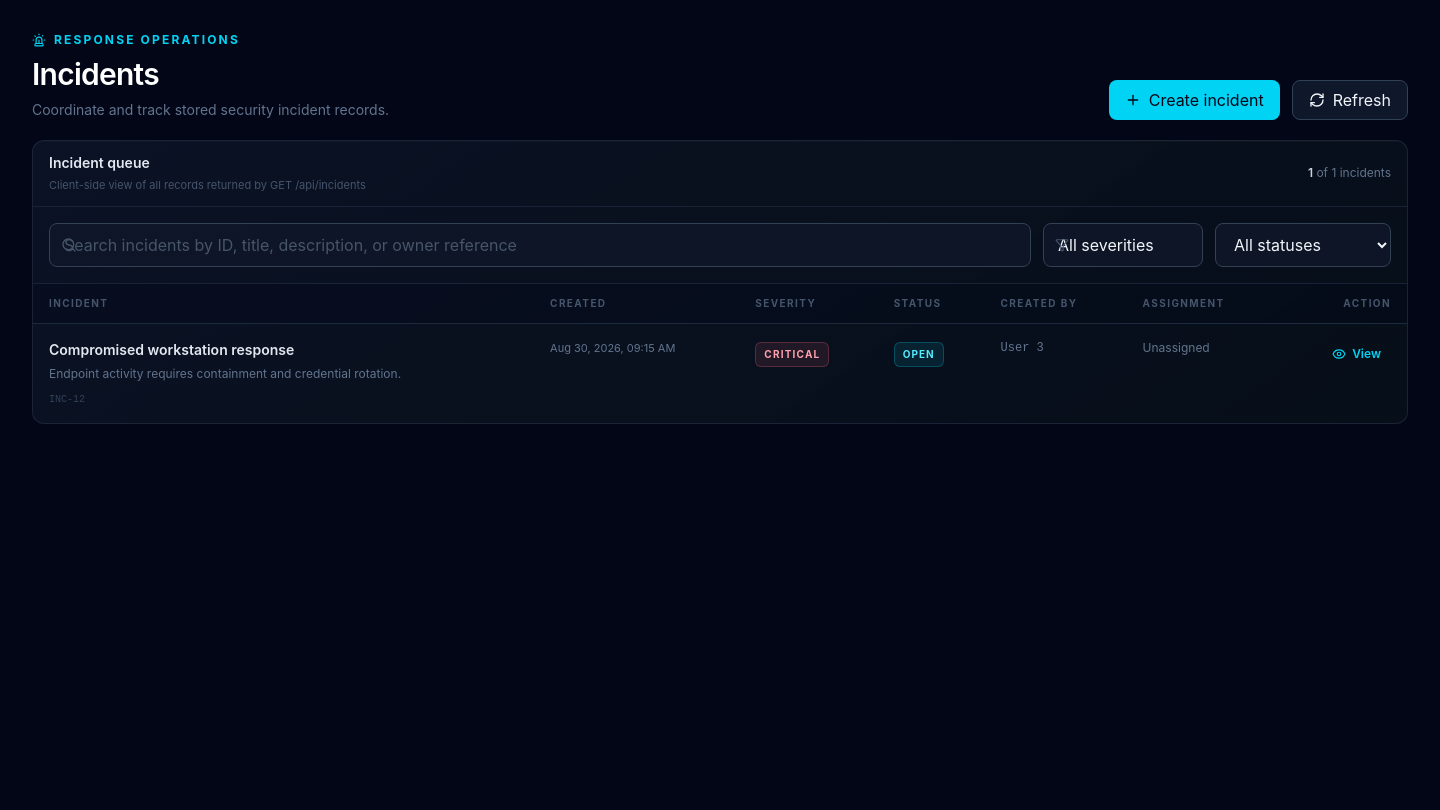
Scenario: IncidentsPage › shows a failed incident mutation
The width and height of the screenshot is (1440, 810).
Click the button with aria-label "Open incident 12": [172, 349] box [33,323,1407,422]
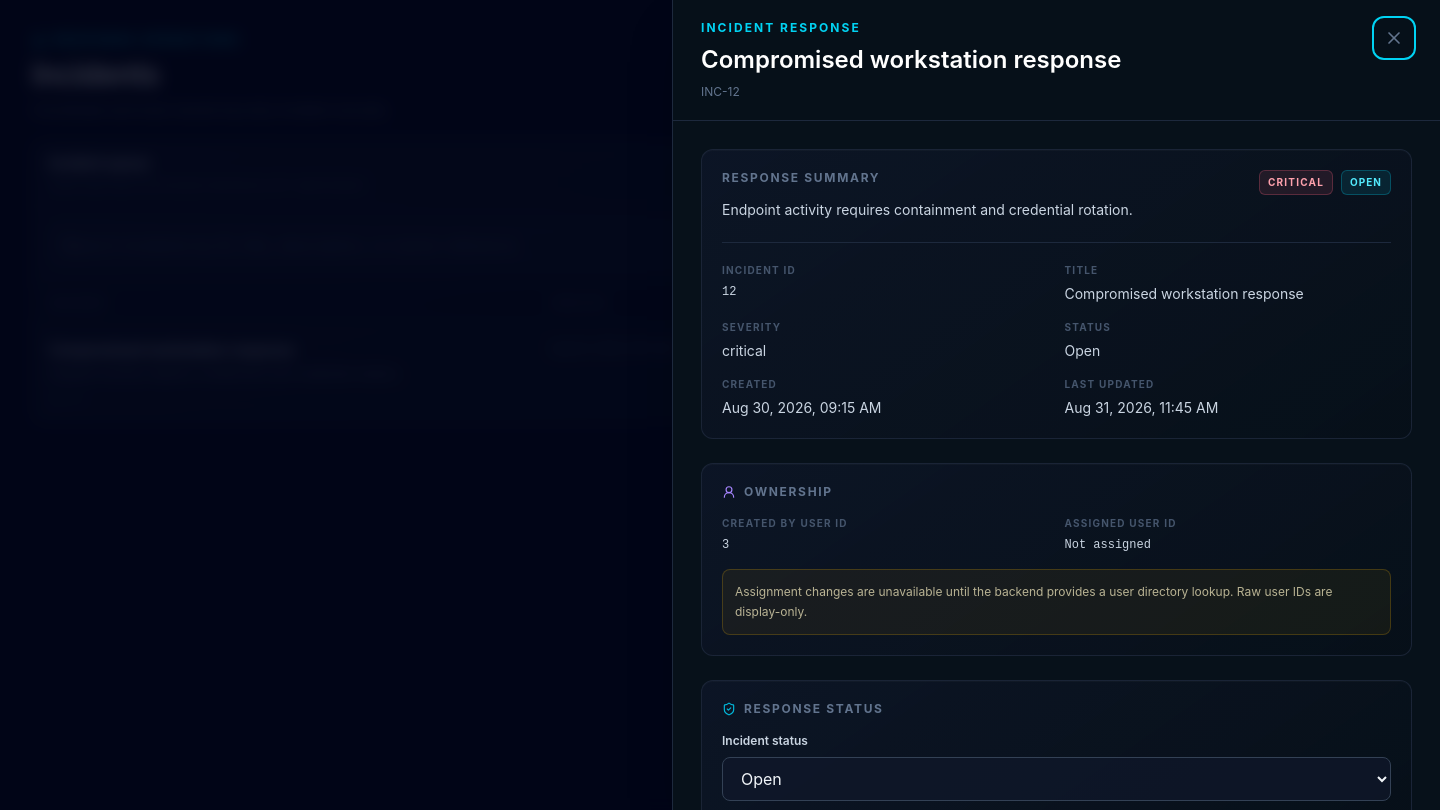
Select "Closed" in the dropdown labelled "Incident status": [1056, 779] box [722,757,1391,801]
(page scrolled)
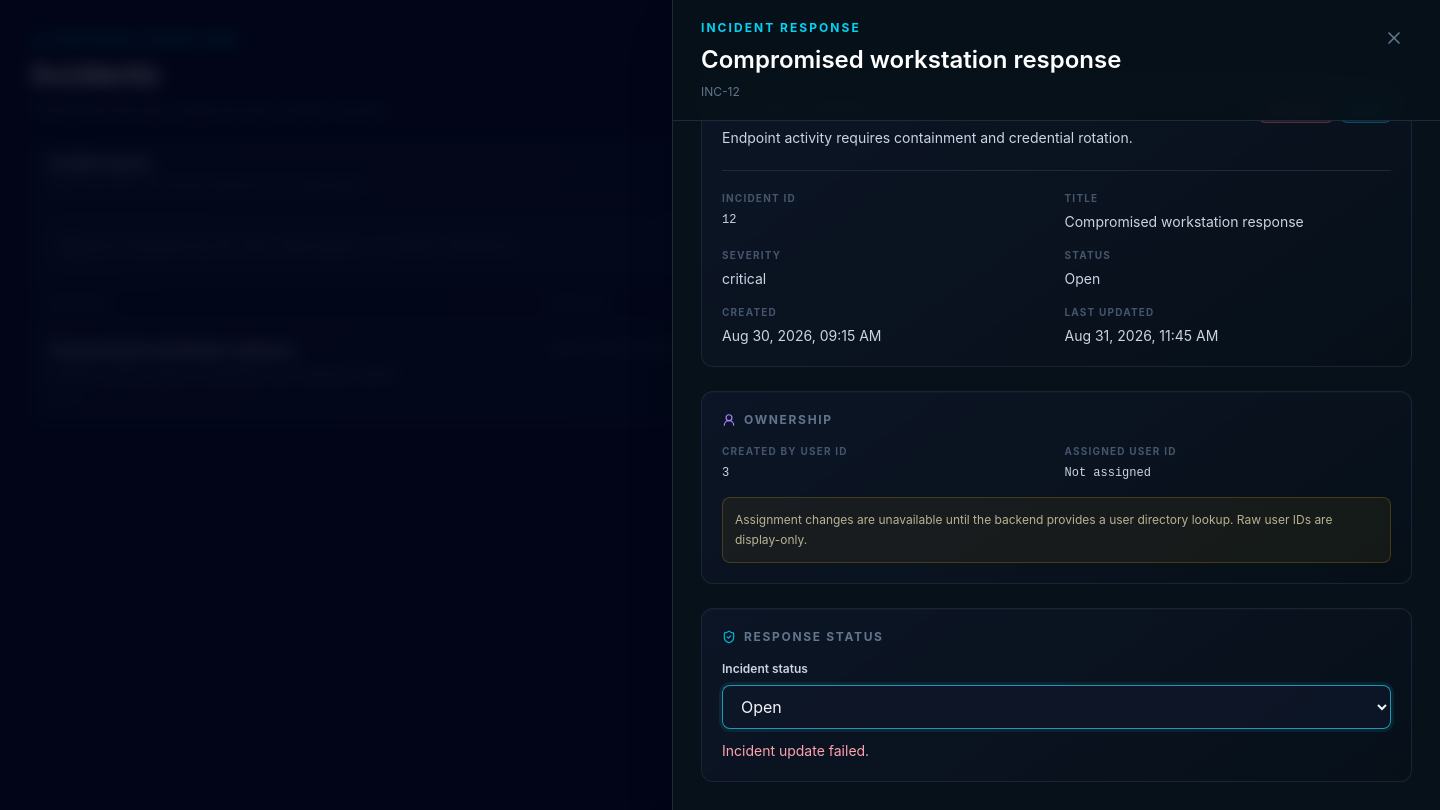
Expected: the message reads "Incident update failed.", [722,742,869,759]
